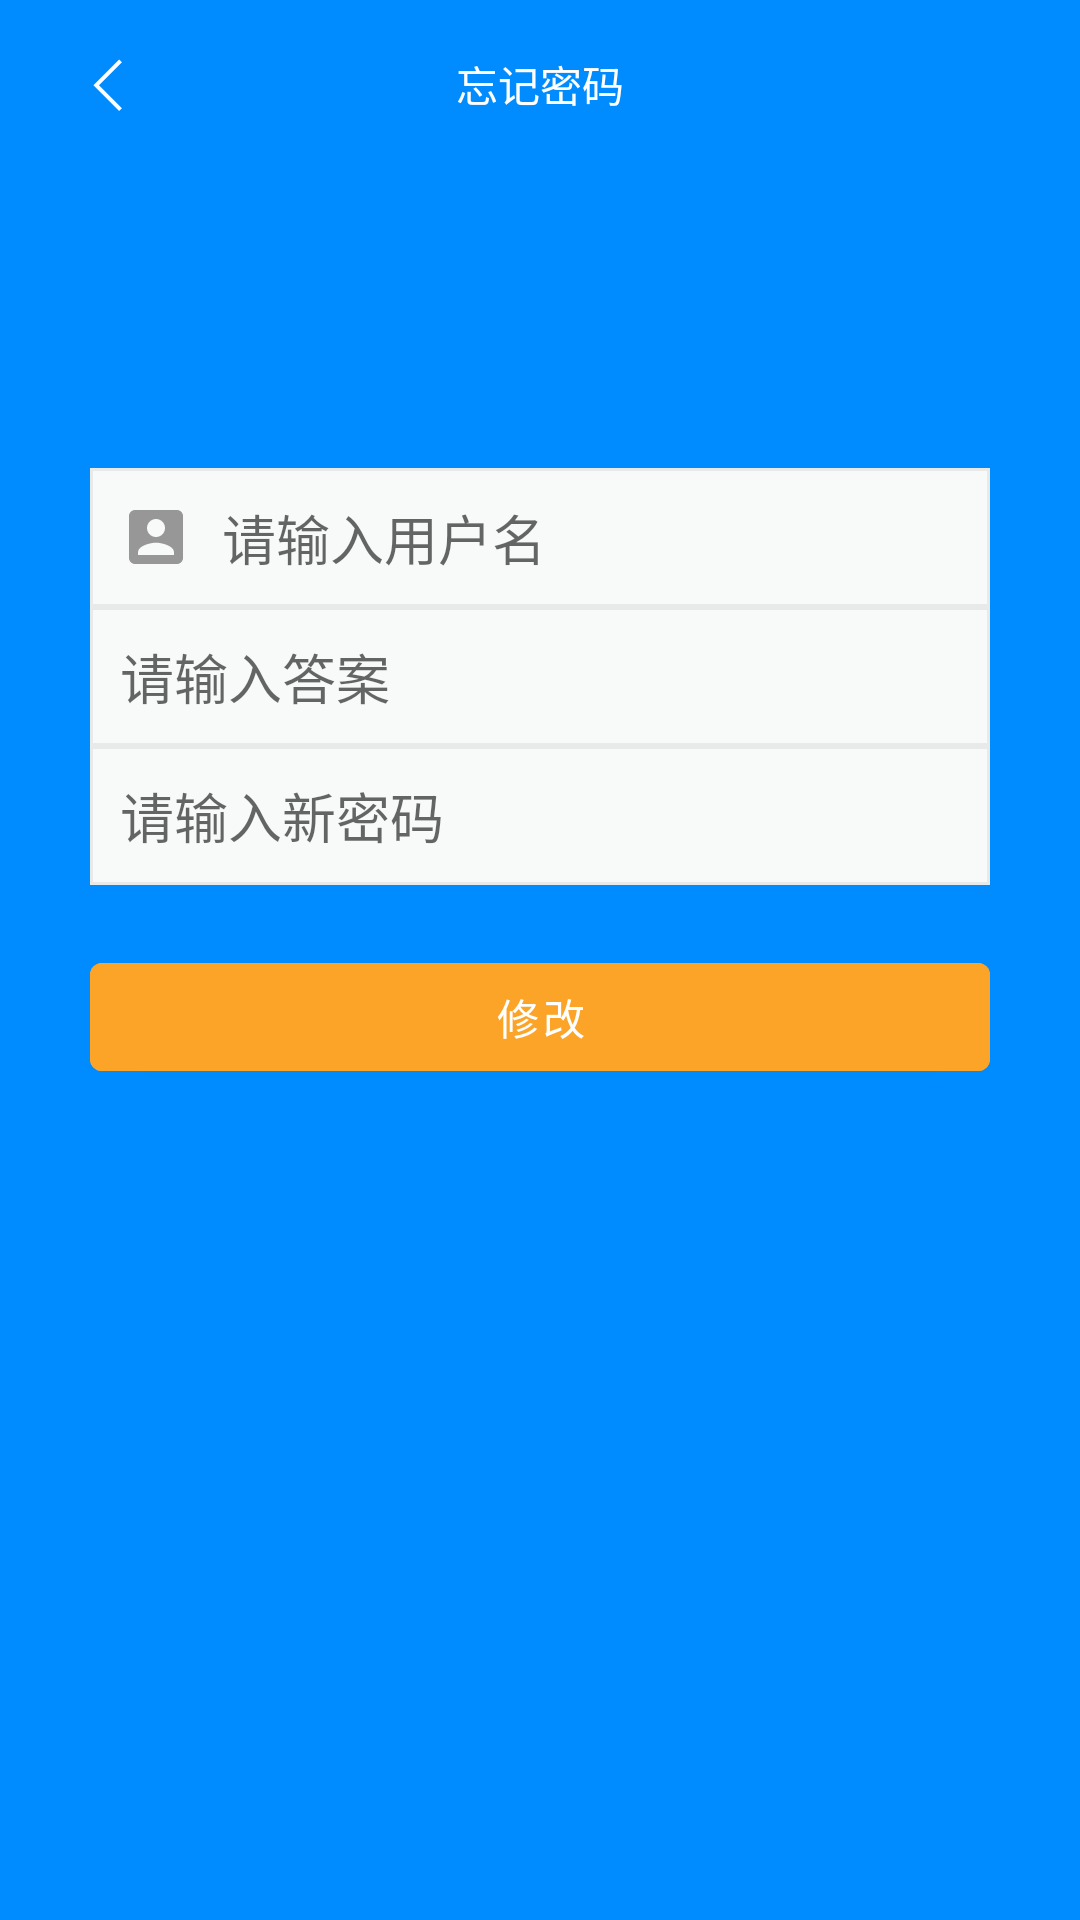

Icon click points for this 1080×1920 phone screenshot, format point (x, y):
back: point (107, 85)
